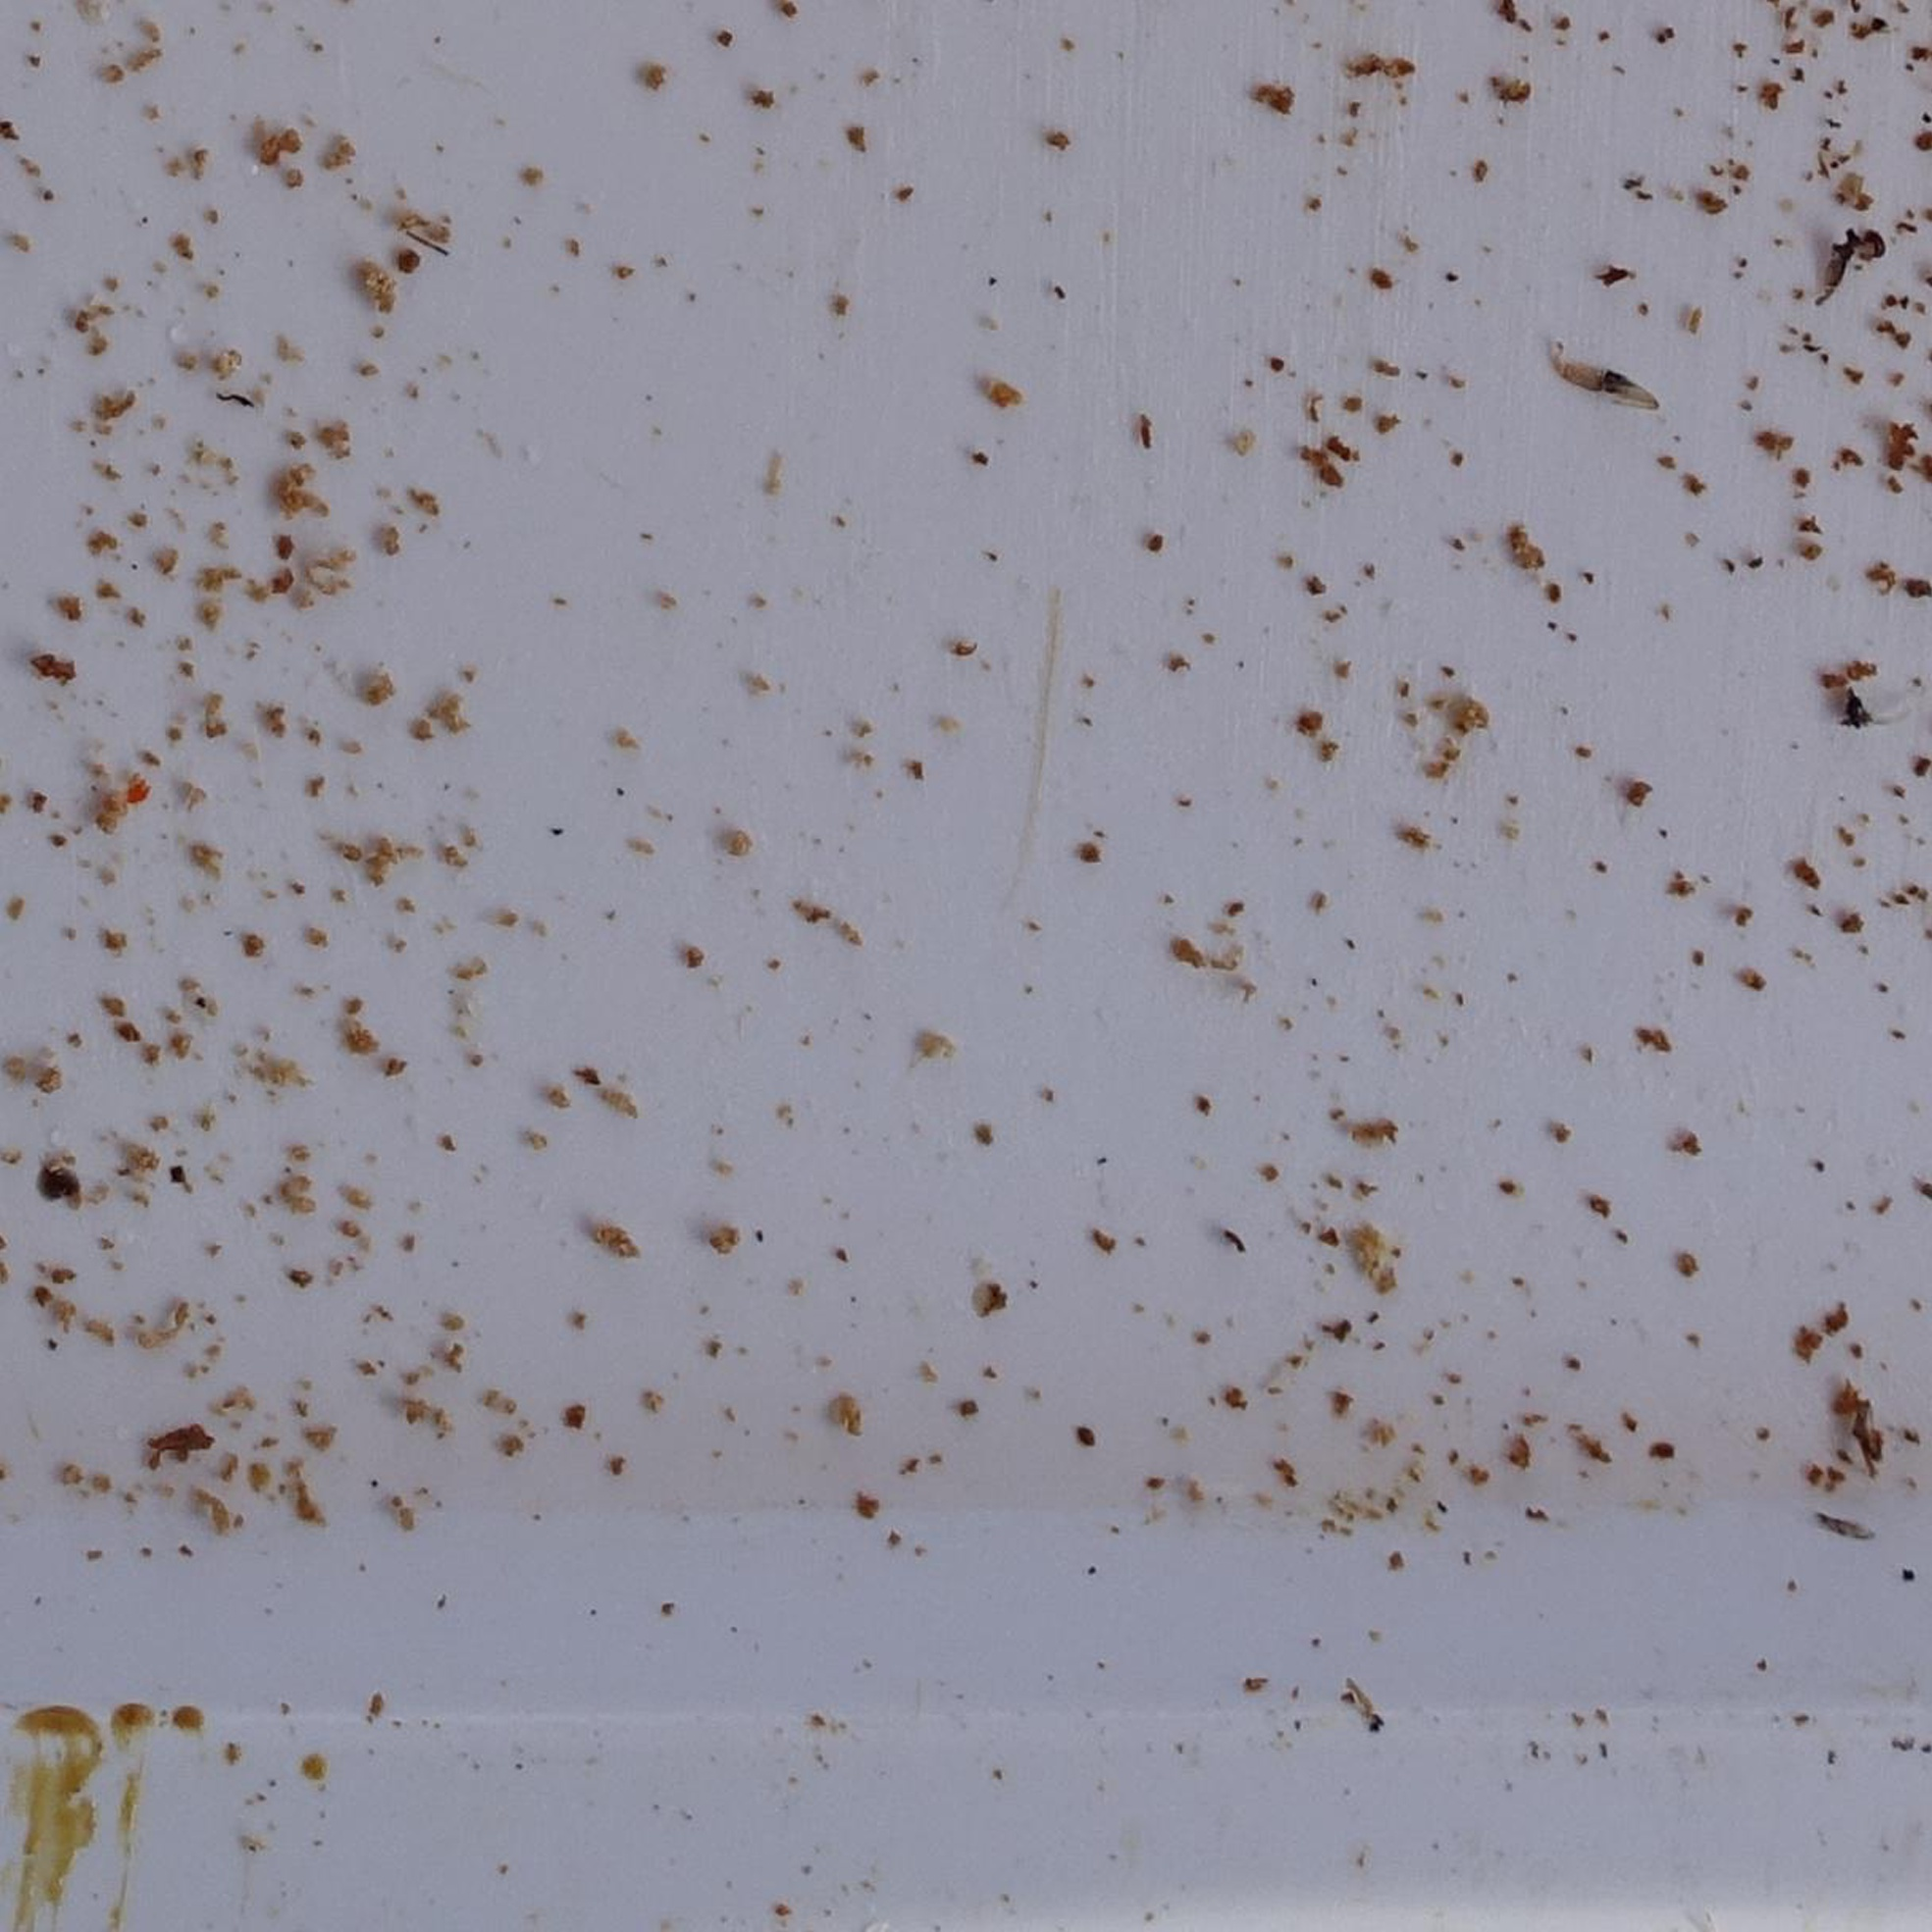Varroa: (1861, 225, 1886, 255)
